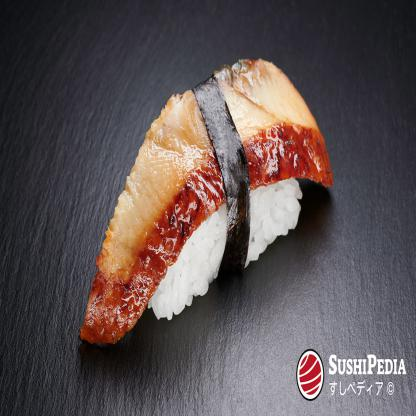unagi: (68, 46, 336, 373)
